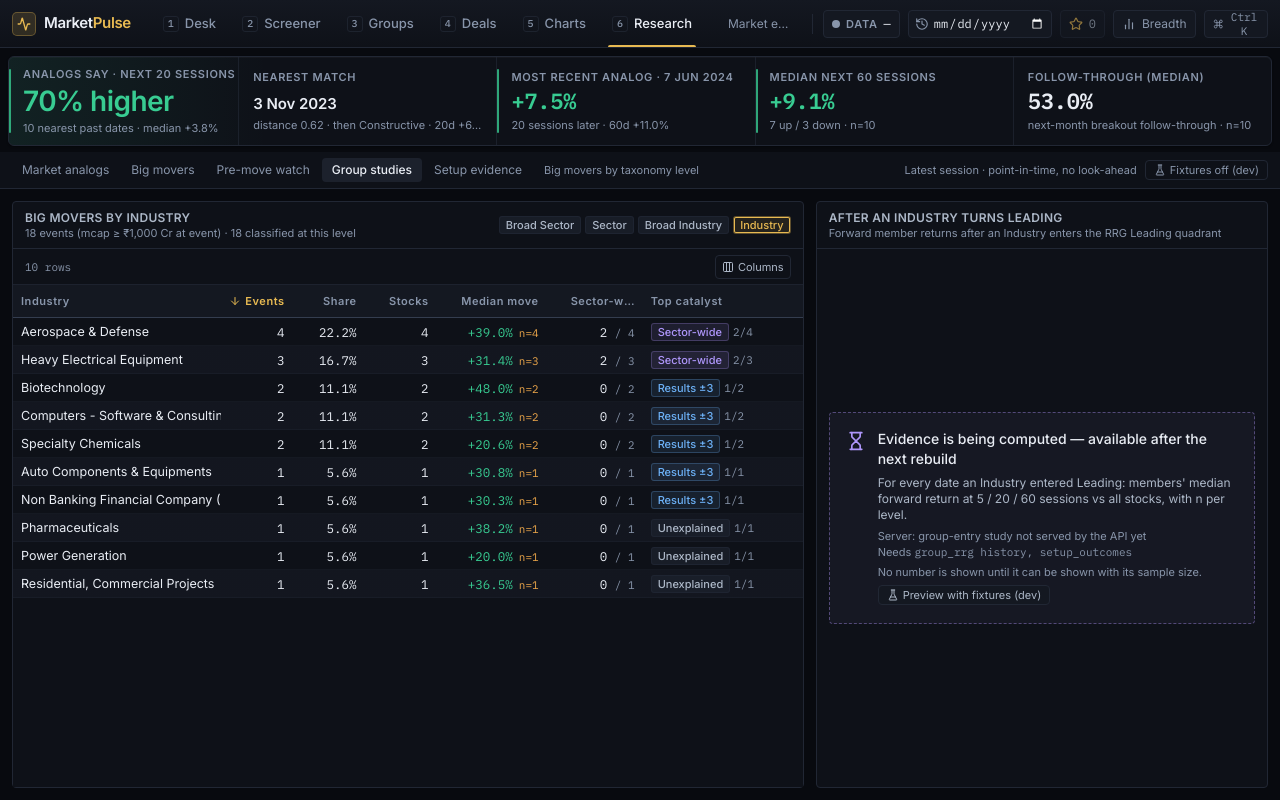
Test: Research tab › group studies switch taxonomy level and print n
Expected: the row that starts with "Aerospace & Defense" shows "n=4", 13,318 -> 803,346
Click the button "Broad Sector" at x=540, y=225, box 499,216 -> 581,234
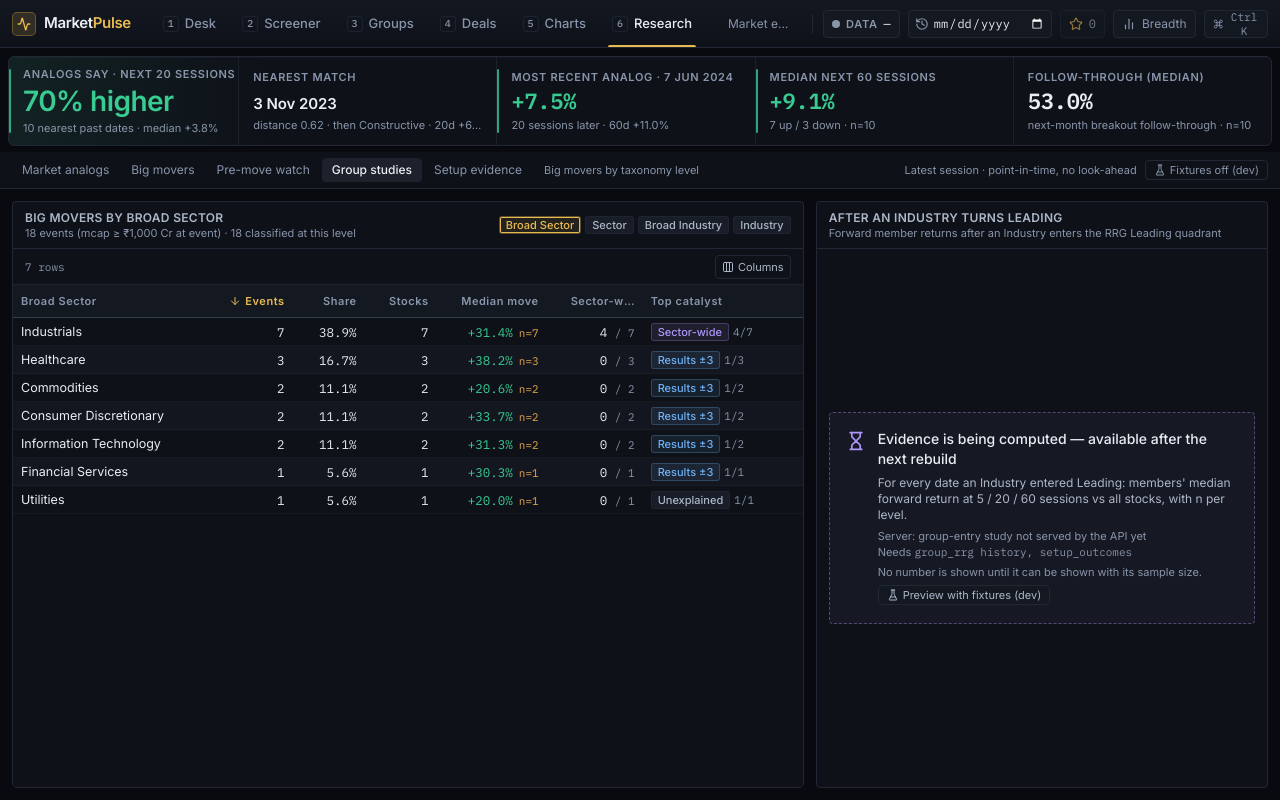
Expected: the heading "After an Industry turns Leading" is shown, 829,210 -> 1063,225
Expected: the row "Industrials 7 38.9% 7 +31.4% n=7 4 / 7 Sector-wide 4/7" is shown, 13,318 -> 803,346
